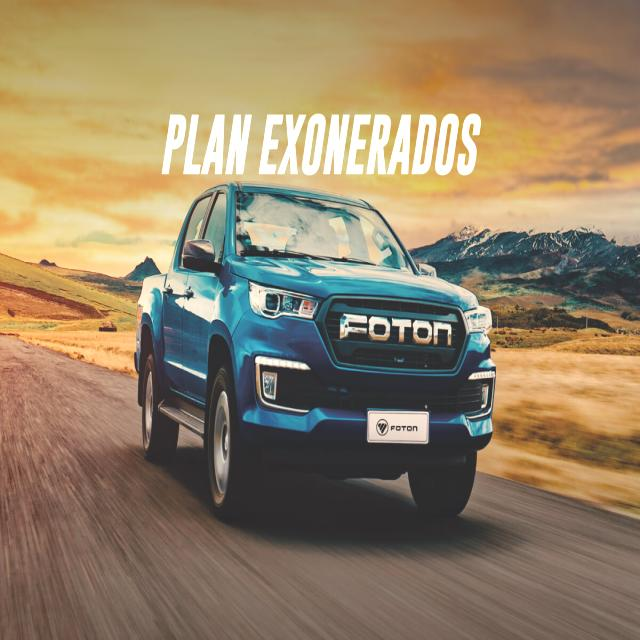CMT: (131, 181, 493, 519)
